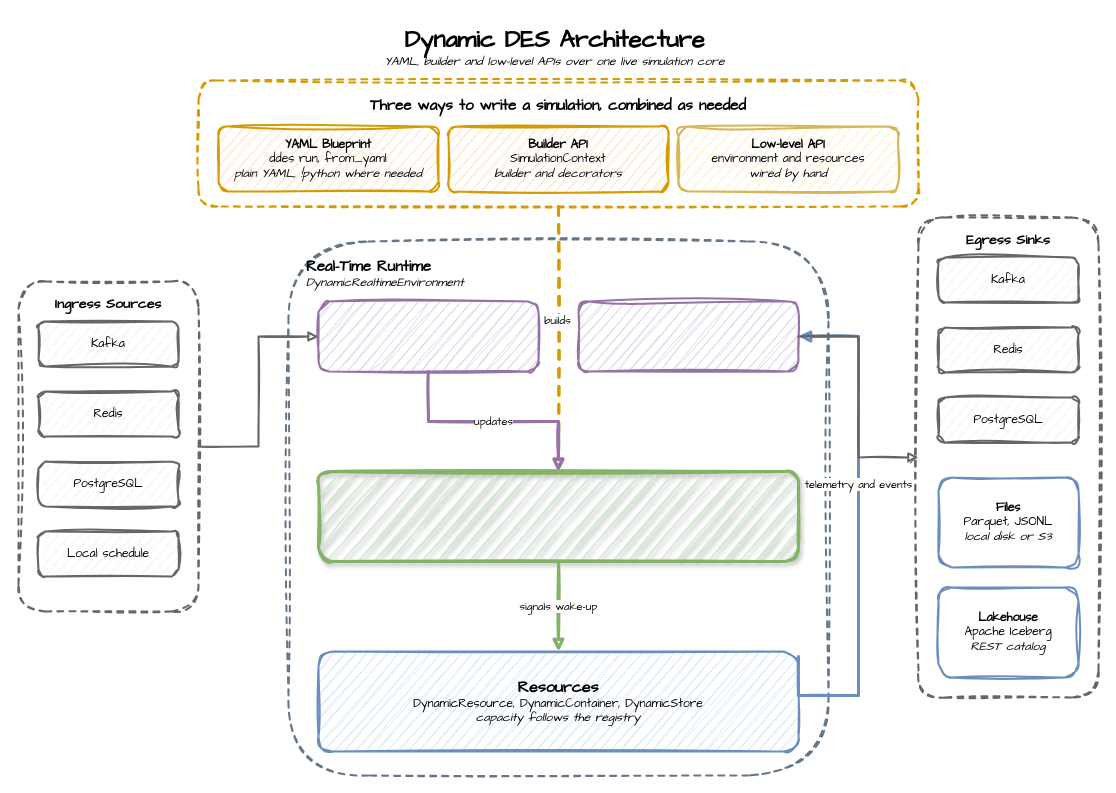
Some shapes in this 1116 by 793 pixel diagram are drawn without their labels. Here are the shapes that lost their labels. From the top down, the centre of each, then its label:
the point at 428,336: Ingress Connectors background I/O threads
the point at 688,336: Egress Connectors batched records, on their own thread
the point at 559,518: Registry every live parameter, by path
